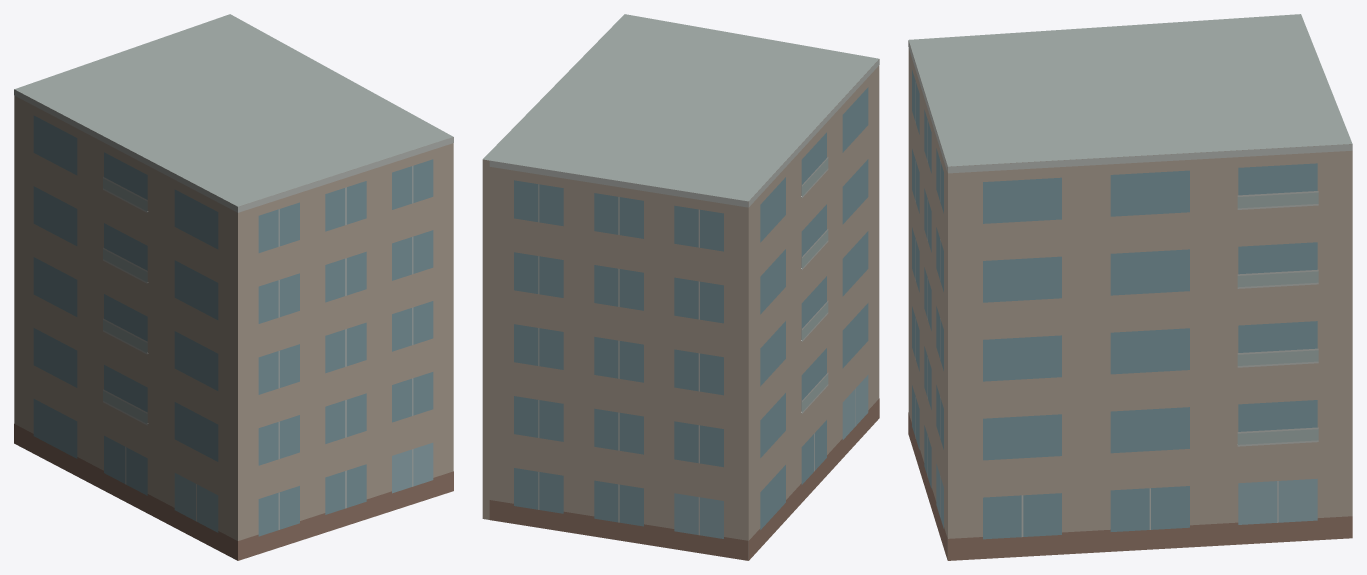
File: survey-upis-32937599.glb
3 renders of one model, left to right at view 1: azimuth 30°, elevation 25°; view 2: azimuth 150°, elevation 25°; view 3: azimuth 270°, elevation 25°, orthographic. The views are drawn at different scales.
Visible parts, largest first — view 1: survey-upis-32937599.tmp; view 2: survey-upis-32937599.tmp; view 3: survey-upis-32937599.tmp.
Part boxes in pixels (left/top/right/bottom): survey-upis-32937599.tmp: left=14, top=14, right=453, bottom=560; survey-upis-32937599.tmp: left=482, top=14, right=879, bottom=560; survey-upis-32937599.tmp: left=908, top=14, right=1352, bottom=560.
Bounding box in the file's own units: 11.7 × 14.08 × 14.38.
